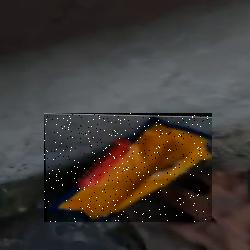plastic: (44, 113, 212, 222)
